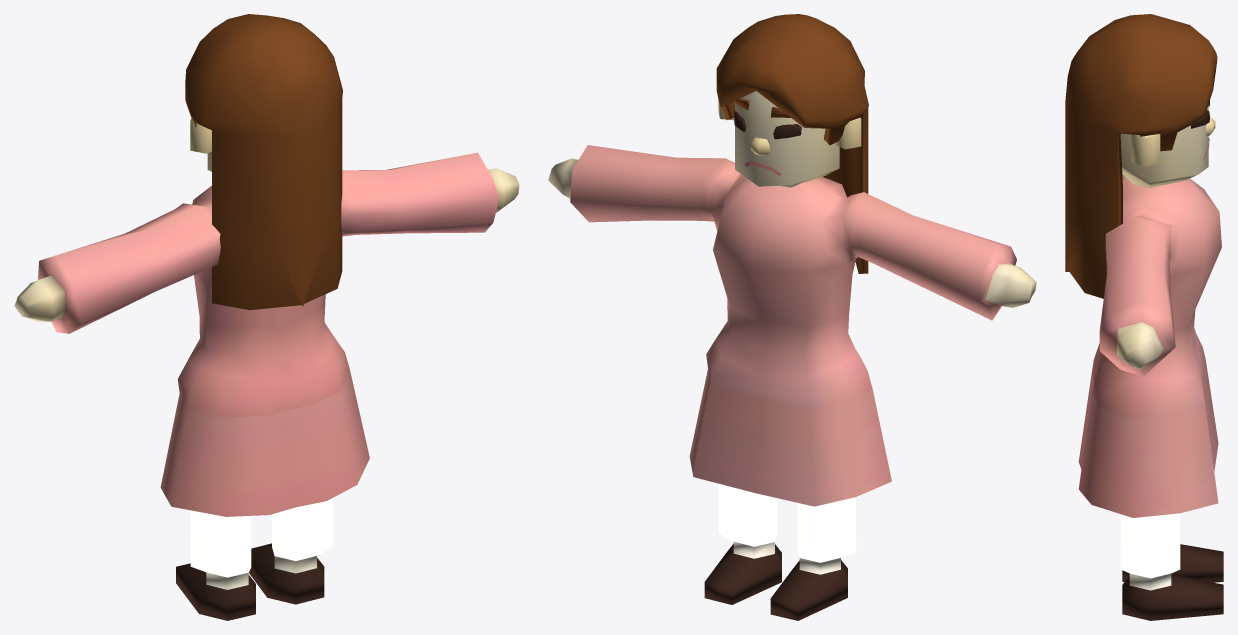
Rendered from SM_Female.fbx.
3 views of the same model, side by side, from view 1: azimuth 30°, elevation 25°; view 2: azimuth 150°, elevation 25°; view 3: azimuth 270°, elevation 25° (orthographic). The views are drawn at different scales.
Visible parts, largest first — view 1: Woman; view 2: Woman; view 3: Woman.
Part boxes in pixels (<box>): Woman: <box>14,14,519,620</box>; Woman: <box>548,14,1036,620</box>; Woman: <box>1065,14,1223,620</box>.
Bounding box in the file's own units: 69.63 × 77.56 × 19.53.
